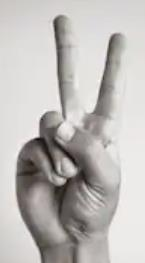front: (12, 11, 131, 237)
